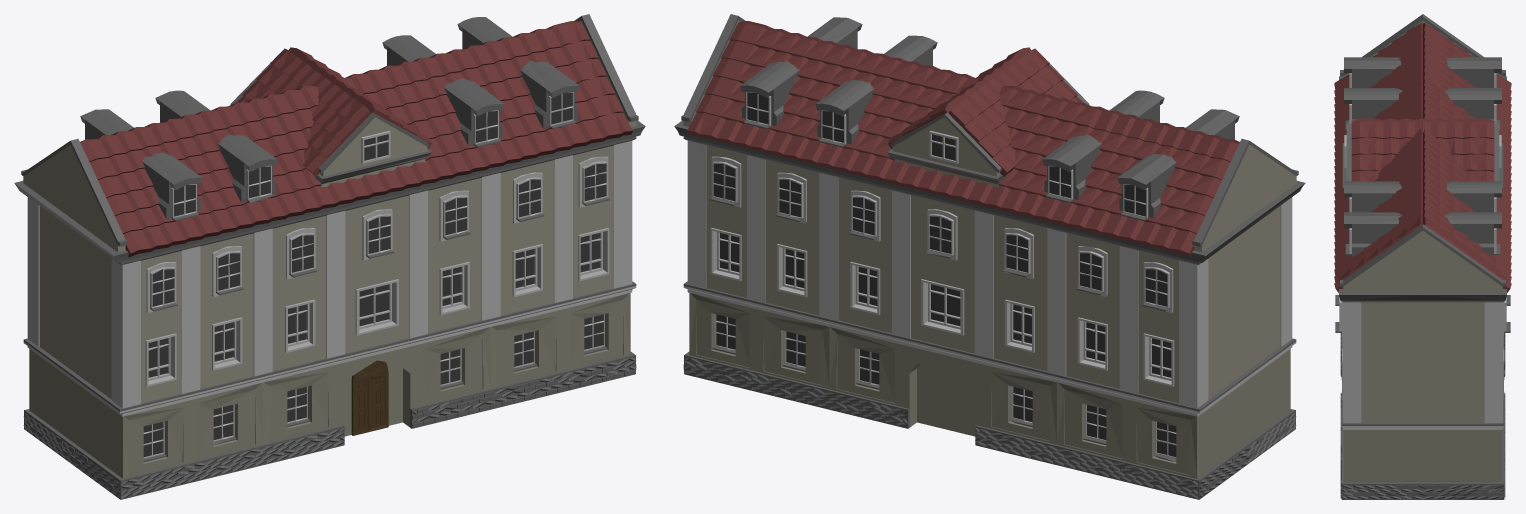
Rendered from Building1_Large.glb.
3 renders of one model, left to right at view 1: azimuth 30°, elevation 25°; view 2: azimuth 150°, elevation 25°; view 3: azimuth 270°, elevation 25°, orthographic. The views are drawn at different scales.
Visible parts, largest first — view 1: Building1_Large; view 2: Building1_Large; view 3: Building1_Large.
Part boxes in pixels (x1,y1,x2,y2): Building1_Large: (14,14,645,499); Building1_Large: (674,14,1305,499); Building1_Large: (1334,14,1511,499).
Size of the model in its own units: 7.99 by 4.67 by 2.74.
